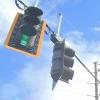traffic lights: (10, 4, 45, 57), (52, 38, 75, 90)
